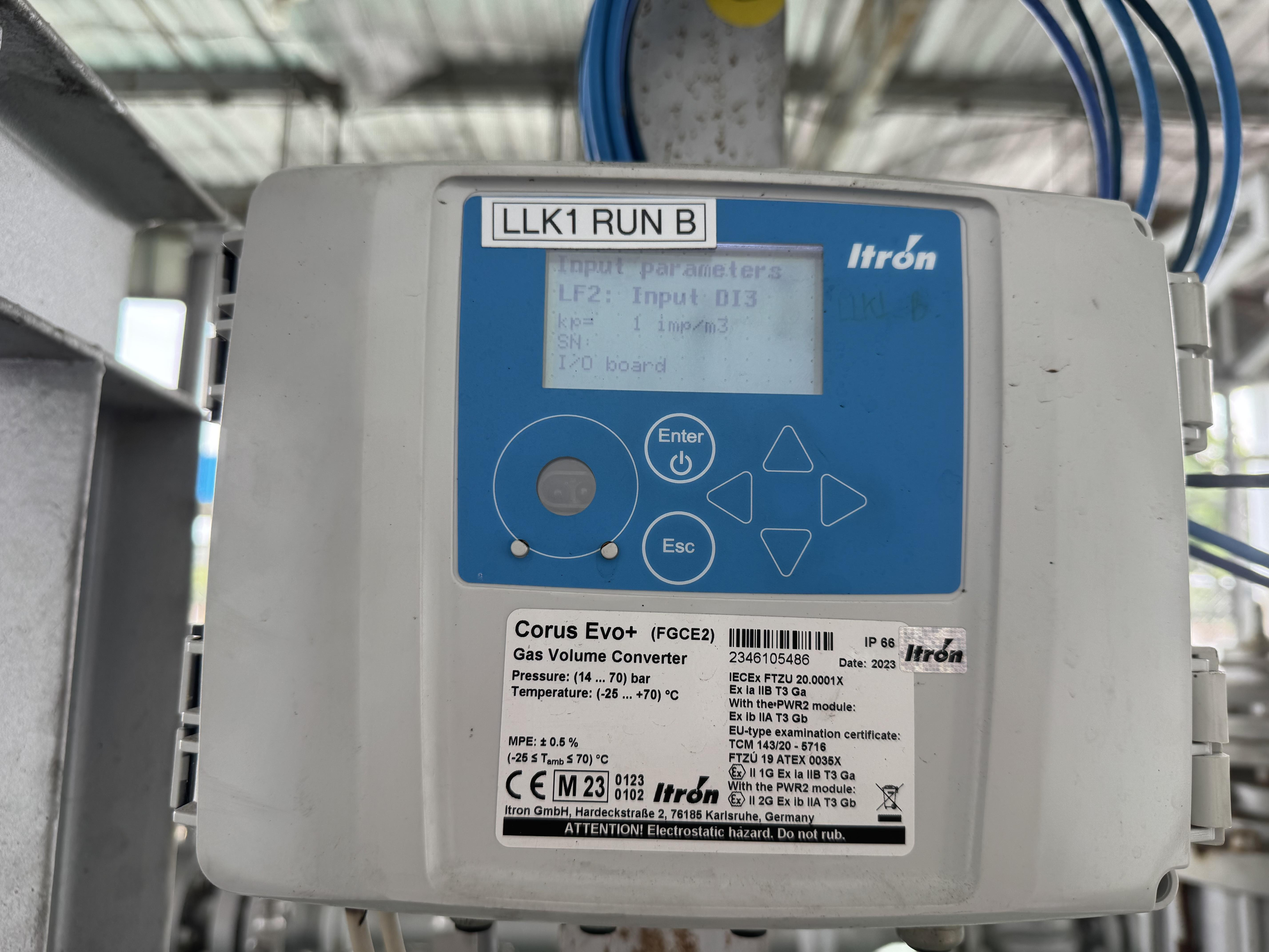digital_screen: (543, 239, 826, 395)
